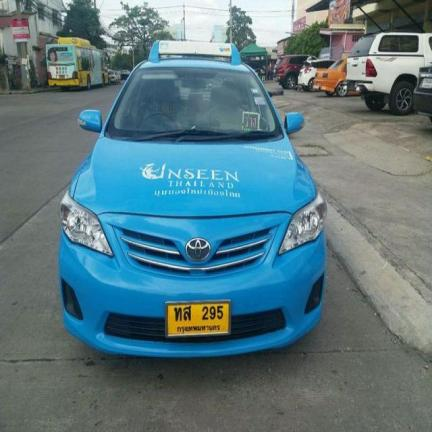bus: (47, 37, 107, 89)
car: (348, 32, 431, 115), (273, 55, 308, 88), (314, 59, 346, 95), (298, 59, 333, 90), (277, 90, 281, 92)
taxi: (59, 41, 325, 356)
